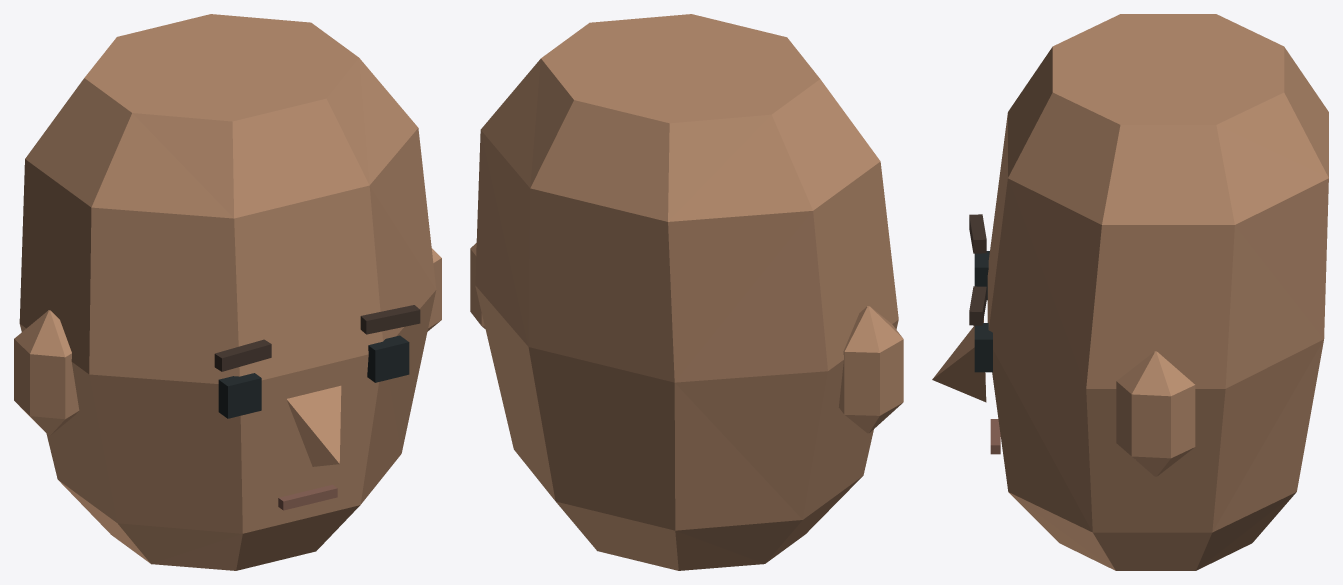
The model's file is NPC_Head_01_Female.glb.
3 views of the same model, side by side, from view 1: azimuth 30°, elevation 25°; view 2: azimuth 150°, elevation 25°; view 3: azimuth 270°, elevation 25° (orthographic).
Parts seen in each view (by area): view 1: NPC_Head_01_Female; view 2: NPC_Head_01_Female; view 3: NPC_Head_01_Female.
Boxes of the visible parts, box(x1,y1,x2,y2) form: NPC_Head_01_Female: box(14, 14, 441, 570); NPC_Head_01_Female: box(470, 14, 903, 570); NPC_Head_01_Female: box(932, 14, 1328, 570).
Bounding box in the file's own units: 0.5692 × 0.6 × 0.4752.
